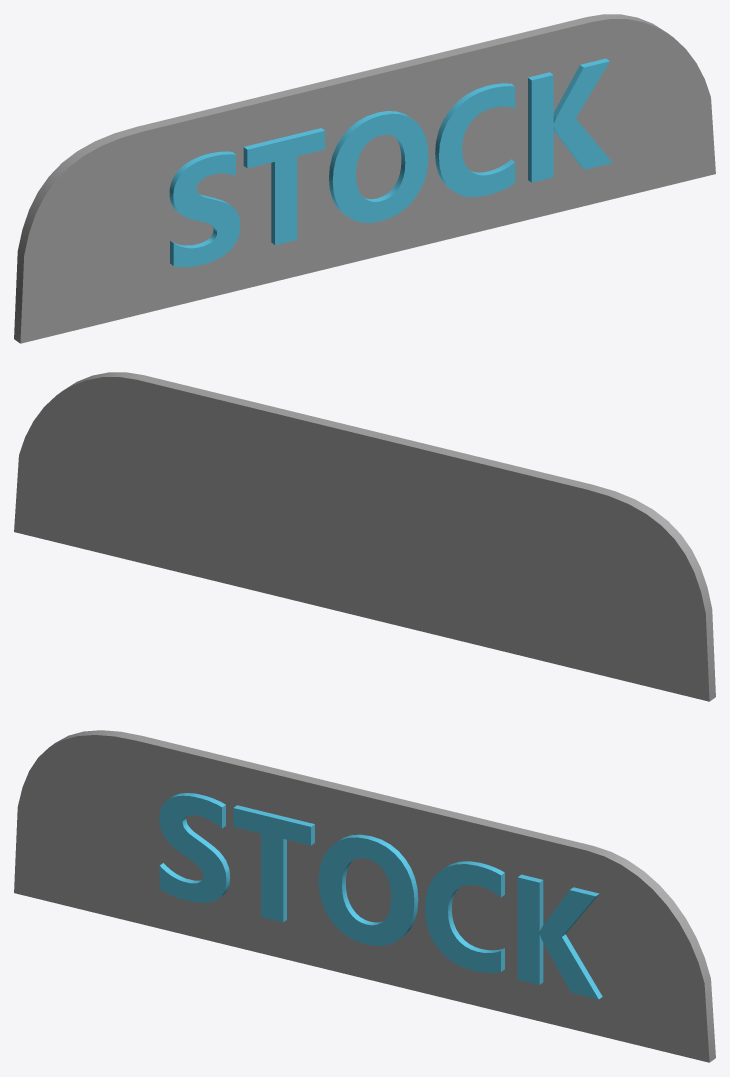
File: Stock_Poster.fbx
3 renders of one model, top to bottom at view 1: azimuth 30°, elevation 25°; view 2: azimuth 150°, elevation 25°; view 3: azimuth 330°, elevation 25°, orthographic.
Parts seen in each view (by area): view 1: Poster, polySurface3, polySurface5, polySurface1, polySurface4, polySurface2; view 2: Poster; view 3: Poster, polySurface3, polySurface5, polySurface1, polySurface4, polySurface2.
Part boxes in pixels (box(x1,y1,x2,y2)): Poster: box(14, 14, 715, 343); polySurface3: box(329, 111, 428, 222); polySurface5: box(528, 58, 612, 182); polySurface1: box(169, 151, 240, 267); polySurface4: box(435, 83, 515, 196); polySurface2: box(243, 128, 324, 245); Poster: box(14, 372, 715, 701); Poster: box(14, 730, 715, 1062); polySurface3: box(318, 834, 418, 945); polySurface5: box(517, 874, 602, 999); polySurface1: box(159, 793, 230, 902); polySurface4: box(425, 861, 504, 972); polySurface2: box(233, 805, 314, 922).
Bounding box in the file's own units: 1004 × 251 × 25.63.
2 materials, 1 textured.
